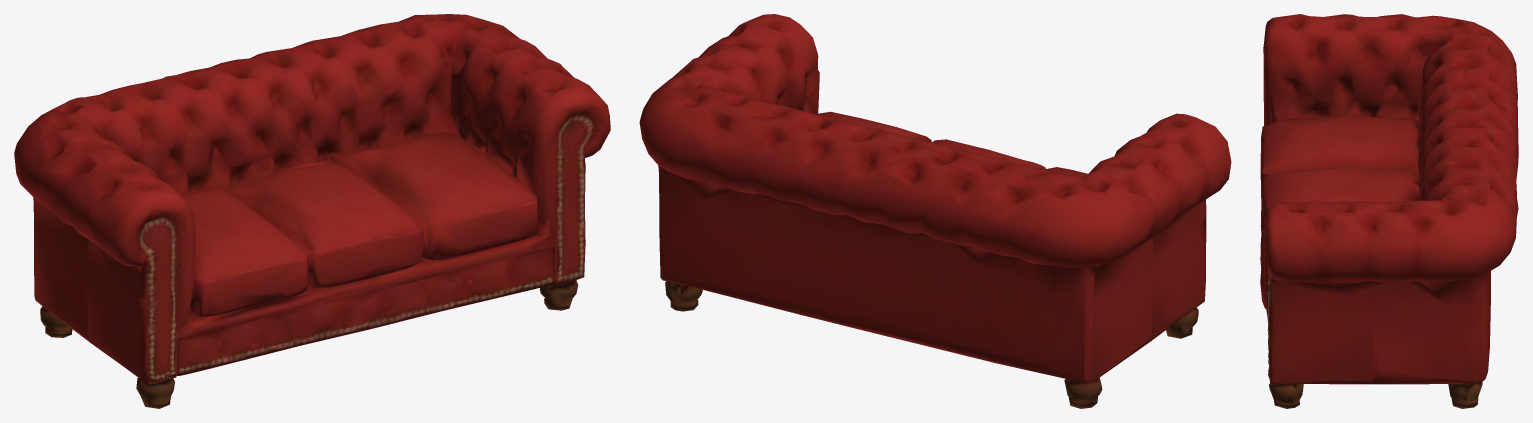
Rendered from couch.glb.
The picture shows the model from 3 angles, left to right: view 1: azimuth 30°, elevation 25°; view 2: azimuth 150°, elevation 25°; view 3: azimuth 270°, elevation 25°; orthographic projection. The views are drawn at different scales.
Visible parts, largest first — view 1: tripo_node_598ae0de-1f04-482d-b8fd-8e8435dc0459; view 2: tripo_node_598ae0de-1f04-482d-b8fd-8e8435dc0459; view 3: tripo_node_598ae0de-1f04-482d-b8fd-8e8435dc0459.
Boxes of the visible parts, x1,y1,x2,y2 form: tripo_node_598ae0de-1f04-482d-b8fd-8e8435dc0459: (14, 14, 610, 408); tripo_node_598ae0de-1f04-482d-b8fd-8e8435dc0459: (639, 14, 1231, 408); tripo_node_598ae0de-1f04-482d-b8fd-8e8435dc0459: (1260, 14, 1518, 408).
Bounding box in the file's own units: 0.9805 × 0.411 × 0.4751.
Materials: 1 (1 with a texture image).
